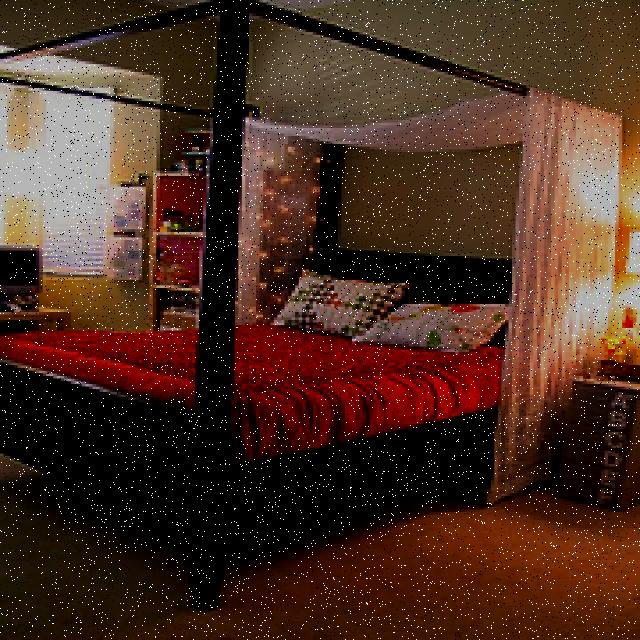bed: (0, 234, 579, 526)
